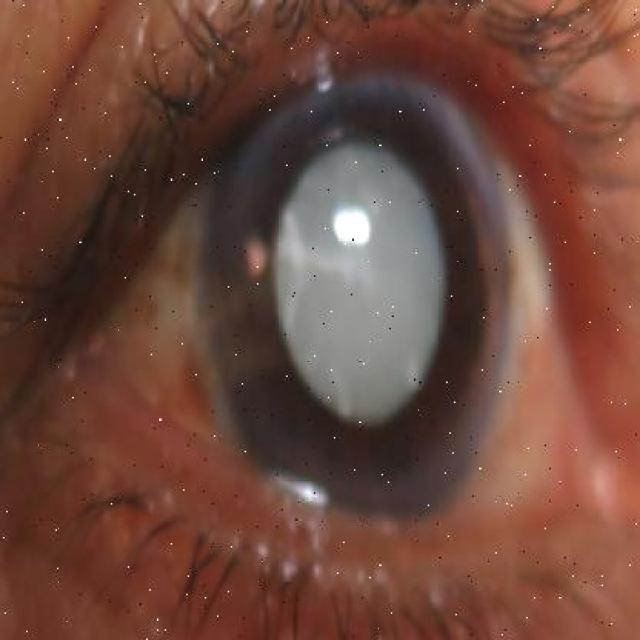Cataract: (186, 53, 521, 544)
